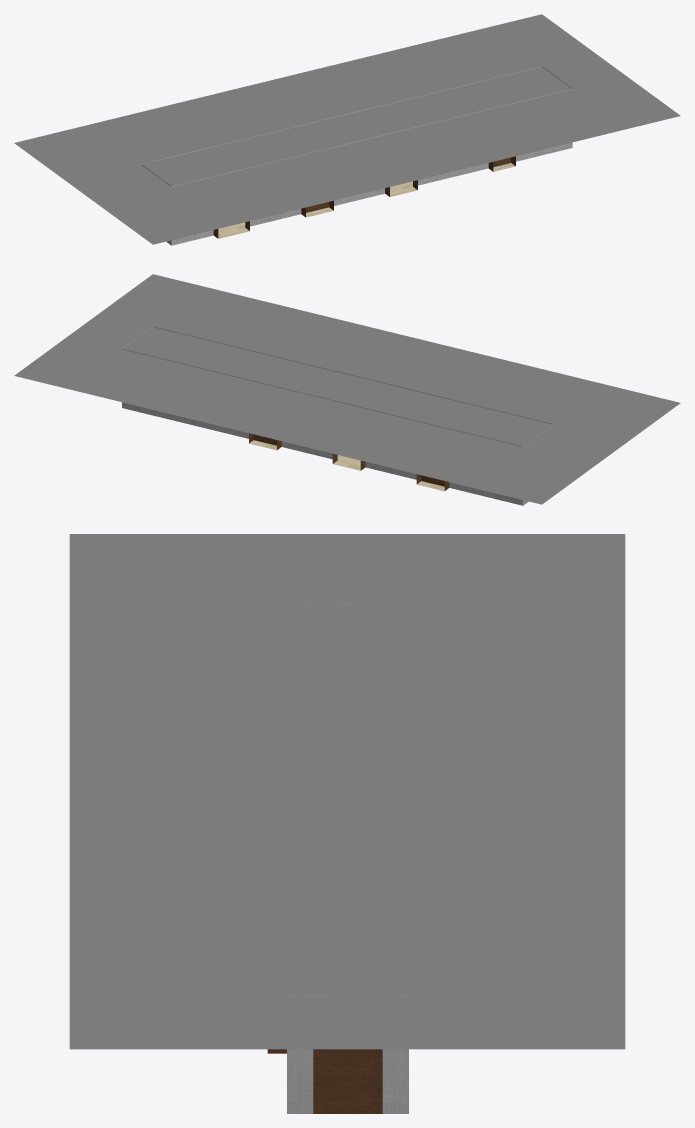
Rendered from CoridorB.obj.
3 renders of one model, top to bottom at view 1: azimuth 30°, elevation 25°; view 2: azimuth 150°, elevation 25°; view 3: azimuth 270°, elevation 25°, orthographic. The views are drawn at different scales.
Visible parts, largest first — view 1: Плоскость.046_Плоскость.021; view 2: Плоскость.046_Плоскость.021; view 3: Плоскость.046_Плоскость.021.
Boxes of the visible parts, bbox=[...] form: Плоскость.046_Плоскость.021: bbox=[14, 14, 680, 245]; Плоскость.046_Плоскость.021: bbox=[14, 274, 680, 505]; Плоскость.046_Плоскость.021: bbox=[69, 534, 625, 1113].
Bounding box in the file's own units: 49.39 × 5.3 × 22.52.
Materials: 4 (4 with a texture image).
